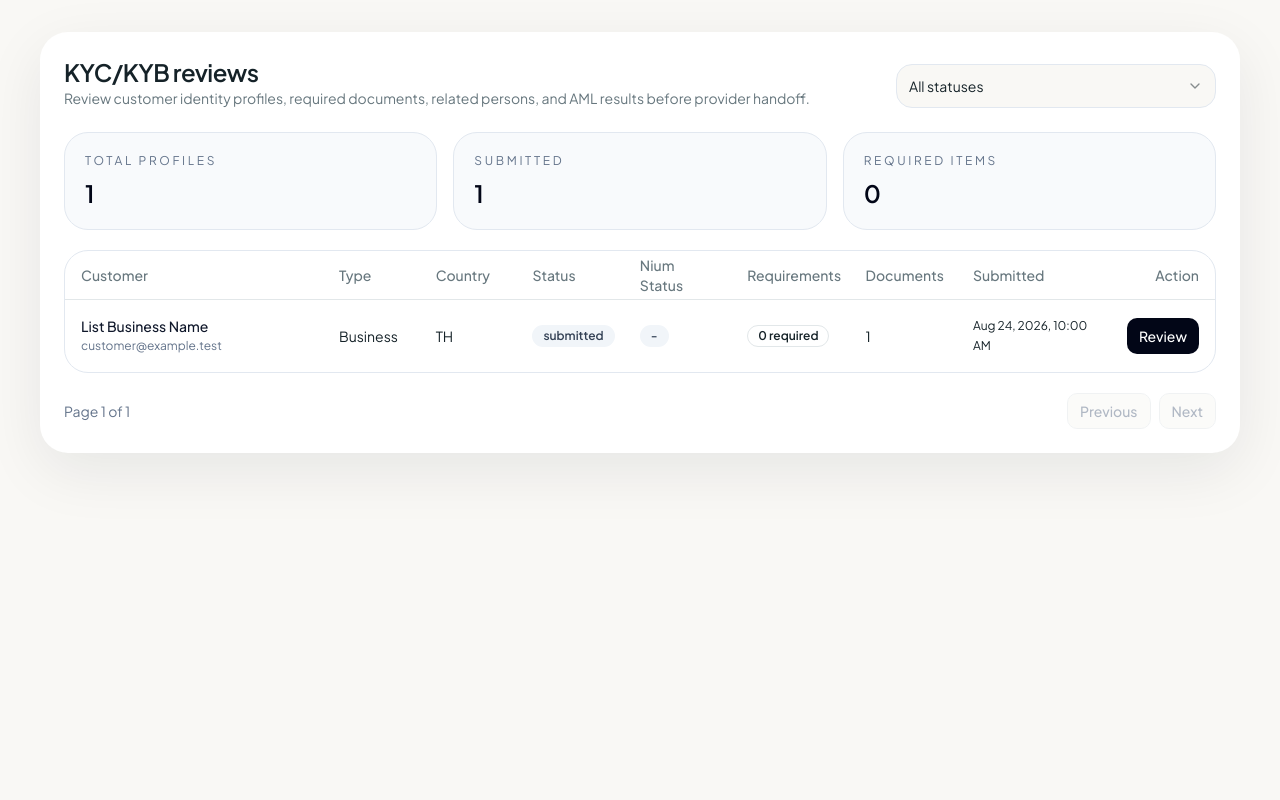
Test: keeps manual customer review selection functional
Step 1. Click the button "Review" → (1163, 336), box [1127, 318, 1199, 354]
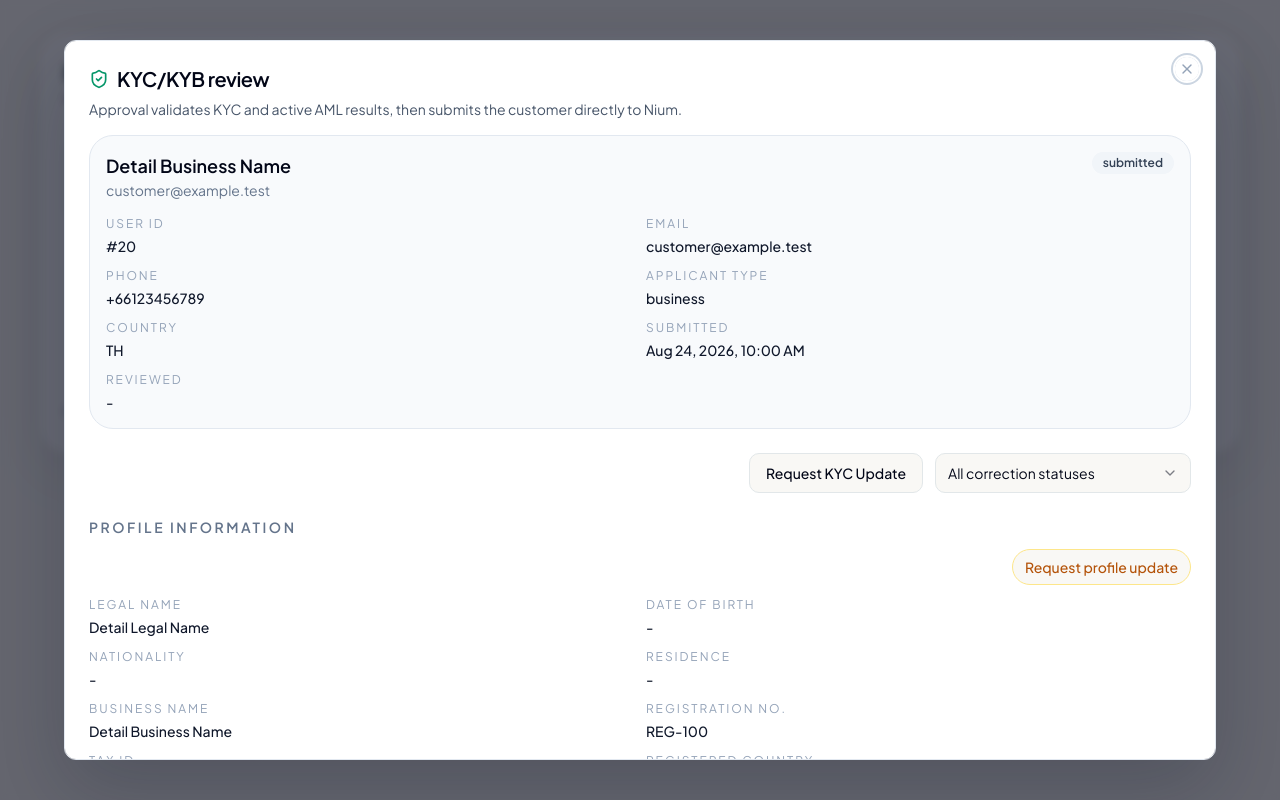
Expected: the text "Detail Business Name" next to "REG-100" is shown, [89, 722, 232, 740]
